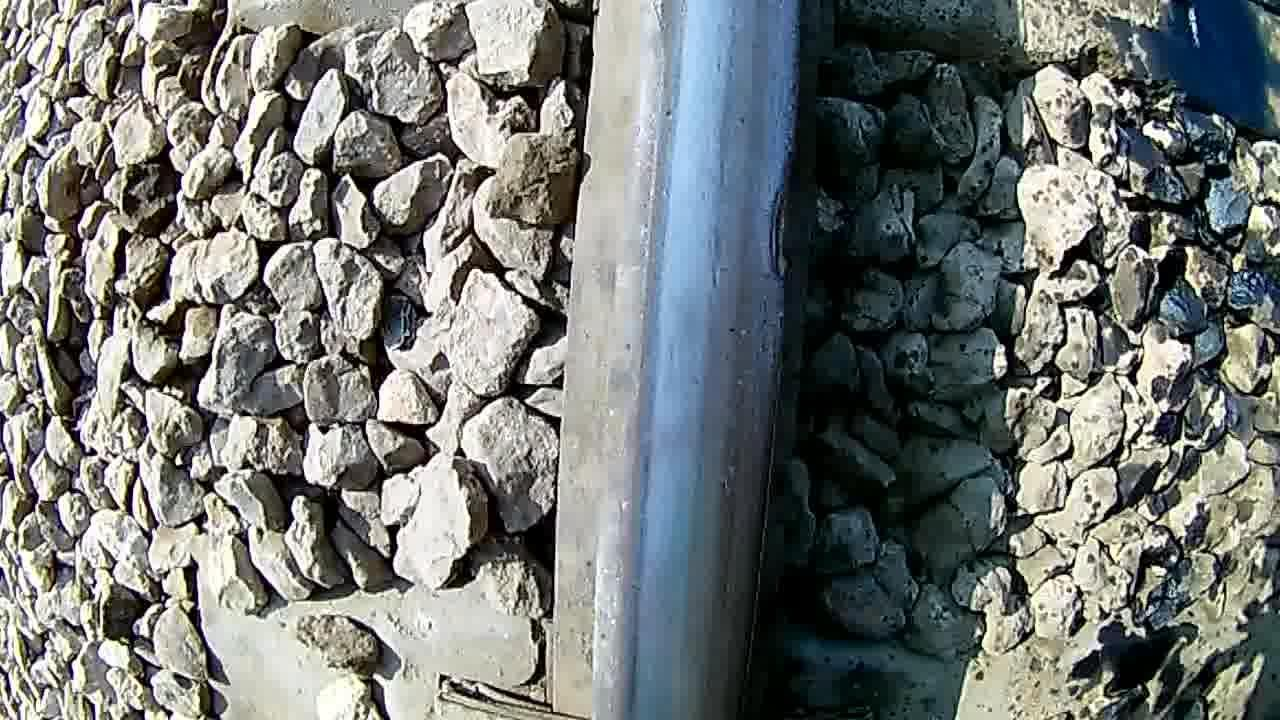crack: (581, 0, 786, 720)
